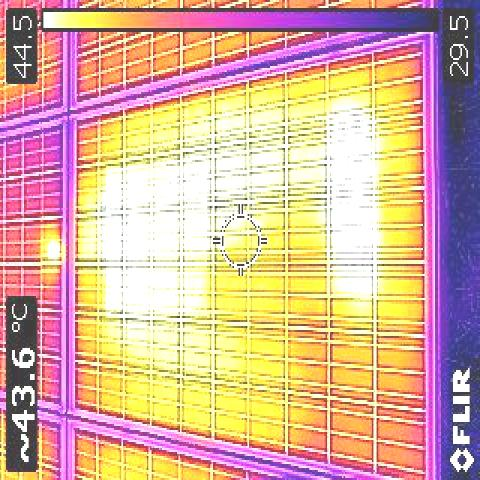fault: (106, 166, 207, 316), (326, 116, 379, 296), (41, 236, 63, 280)
